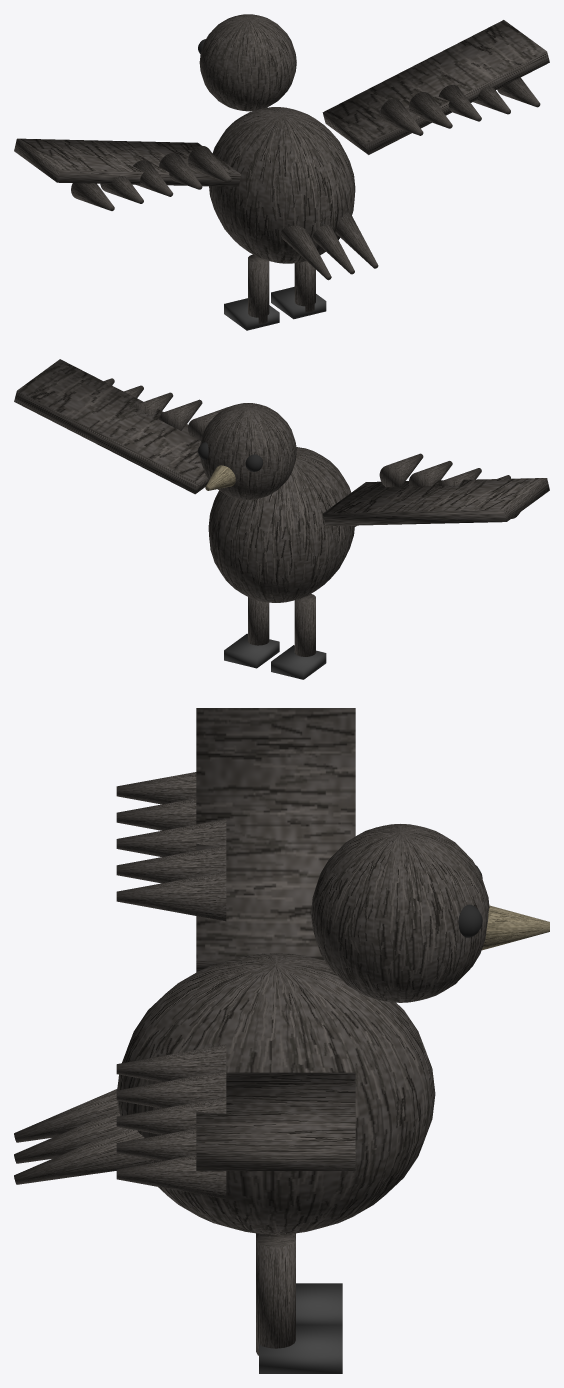
Rendered from ziz.glb.
The picture shows the model from 3 angles, top to bottom: view 1: azimuth 30°, elevation 25°; view 2: azimuth 150°, elevation 25°; view 3: azimuth 270°, elevation 25°; orthographic projection. The views are drawn at different scales.
Visible parts, largest first — view 1: Body, Wing.001, Head, Wing, Leg, TailFeather, Leg.001, TailFeather.002, Foot, Foot.001, Feather.005, Feather (+9 smaller); view 2: Body, Wing.001, Wing, Head, Leg, Foot.001, Foot, Leg.001, Feather, Feather.006, Feather.001, Beak (+2 smaller); view 3: Body, Wing, Head, Wing.001, Leg.001, Feather, Foot.001, TailFeather.002, Feather.009, Feather.001, Feather.005, Feather.006 (+9 smaller).
Boxes of the visible parts, <box> form: Body: <box>209,107,355,263</box>; Wing.001: <box>322,20,549,154</box>; Head: <box>199,14,296,111</box>; Wing: <box>14,138,241,186</box>; Leg: <box>248,254,269,323</box>; TailFeather: <box>280,225,331,280</box>; Leg.001: <box>294,261,315,312</box>; TailFeather.002: <box>335,211,378,268</box>; Foot: <box>224,298,279,330</box>; Foot.001: <box>271,286,326,319</box>; Feather.005: <box>379,99,423,135</box>; Feather: <box>188,146,231,182</box>; Body: <box>208,447,354,602</box>; Wing.001: <box>14,359,208,494</box>; Wing: <box>323,478,549,526</box>; Head: <box>200,403,296,499</box>; Leg: <box>294,594,315,656</box>; Foot.001: <box>224,633,279,668</box>; Foot: <box>271,645,326,679</box>; Leg.001: <box>248,597,269,645</box>; Feather: <box>379,453,423,487</box>; Feather.006: <box>159,399,202,430</box>; Feather.001: <box>409,461,452,486</box>; Beak: <box>205,465,235,490</box>; Body: <box>117,953,435,1234</box>; Wing: <box>196,708,355,972</box>; Head: <box>311,824,489,1002</box>; Wing.001: <box>196,1072,355,1170</box>; Leg.001: <box>256,1234,295,1355</box>; Feather: <box>116,872,226,921</box>; Foot.001: <box>259,1325,342,1373</box>; TailFeather.002: <box>14,1128,153,1184</box>; Feather.009: <box>116,1155,226,1198</box>; Feather.001: <box>116,845,226,883</box>; Feather.005: <box>116,1044,226,1082</box>; Feather.006: <box>116,1070,226,1108</box>.
Size of the model in its own units: 1.88 by 1 by 0.9601.
Materials: 6 (4 with a texture image).
